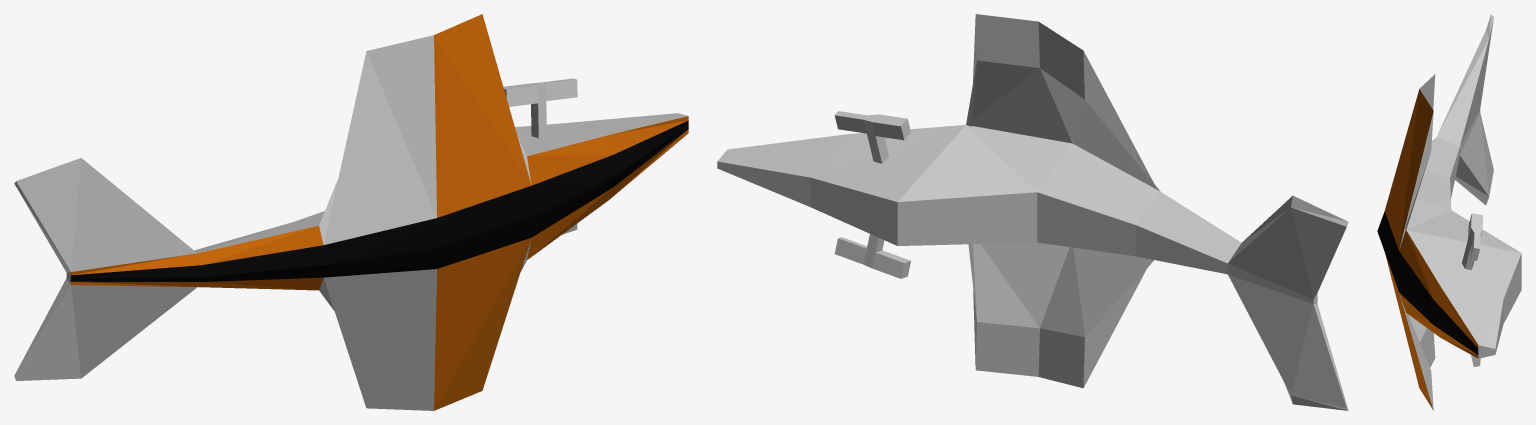
Rendered from i1t1_hunter.obj.
3 renders of one model, left to right at view 1: azimuth 30°, elevation 25°; view 2: azimuth 150°, elevation 25°; view 3: azimuth 270°, elevation 25°, orthographic. The views are drawn at different scales.
Bounding box in the file's own units: 2.14 × 1.16 × 0.5054.
